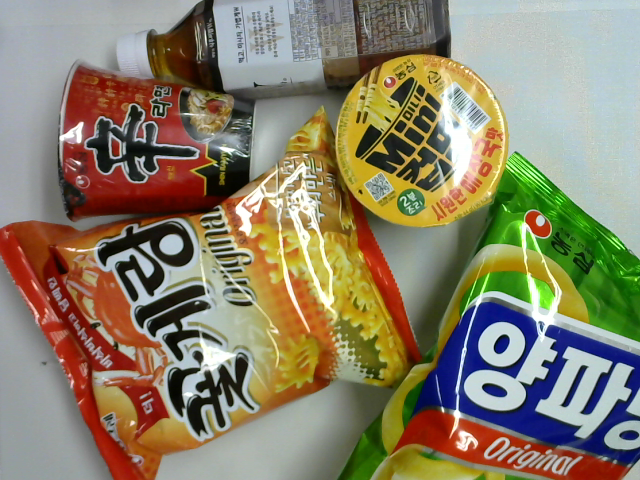Crabrang: (1, 103, 425, 480)
Hejangmini: (334, 53, 511, 230)
Oninon_Ring: (335, 148, 640, 480)
Post-meal_recipe_W_tea_500ml: (114, 1, 453, 101)
Sinramen_small: (56, 56, 258, 224)
